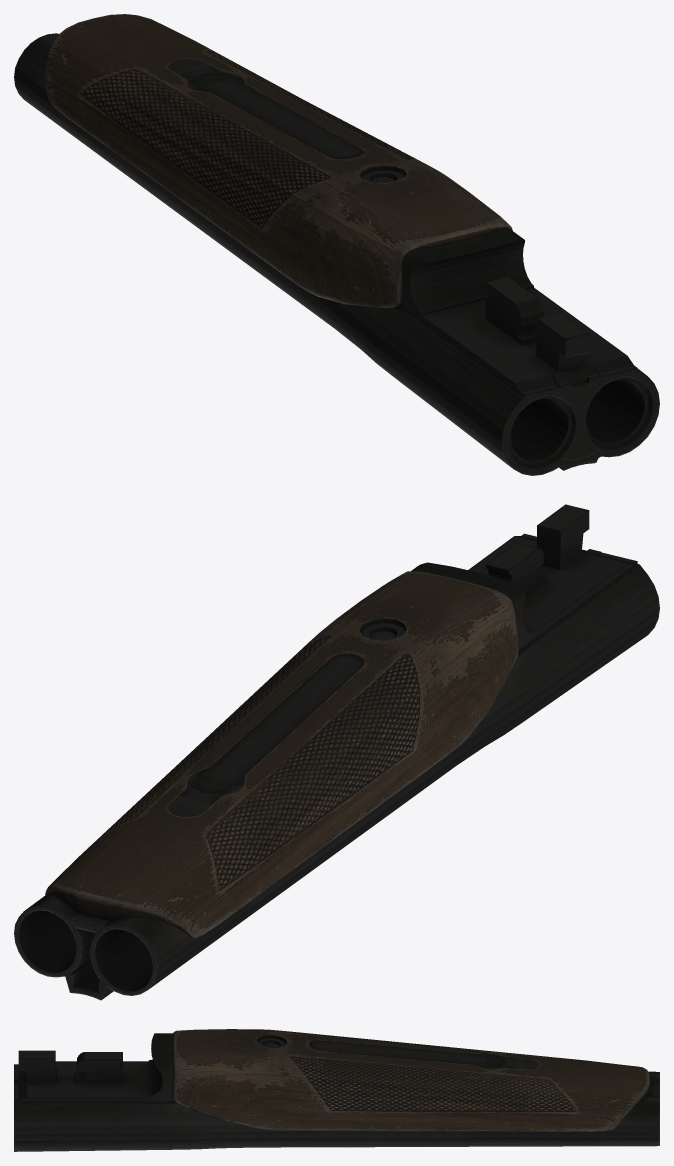
3 renders of one model, top to bottom at view 1: azimuth 30°, elevation 25°; view 2: azimuth 150°, elevation 25°; view 3: azimuth 270°, elevation 25°, orthographic. The views are drawn at different scales.
Visible parts, largest first — view 1: TW_64748d02d1c009260702b526_PZ_Import; view 2: TW_64748d02d1c009260702b526_PZ_Import; view 3: TW_64748d02d1c009260702b526_PZ_Import.
Boxes of the visible parts, box(x1,y1,x2,y2) form: TW_64748d02d1c009260702b526_PZ_Import: box(14, 14, 659, 475); TW_64748d02d1c009260702b526_PZ_Import: box(14, 504, 659, 1000); TW_64748d02d1c009260702b526_PZ_Import: box(14, 1029, 659, 1151).
Bounding box in the file's own units: 0.033 × 0.1789 × 0.0301.
Materials: 1 (1 with a texture image).
